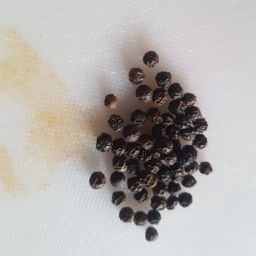Pepper corns: (88, 37, 217, 250), (104, 73, 197, 206)
